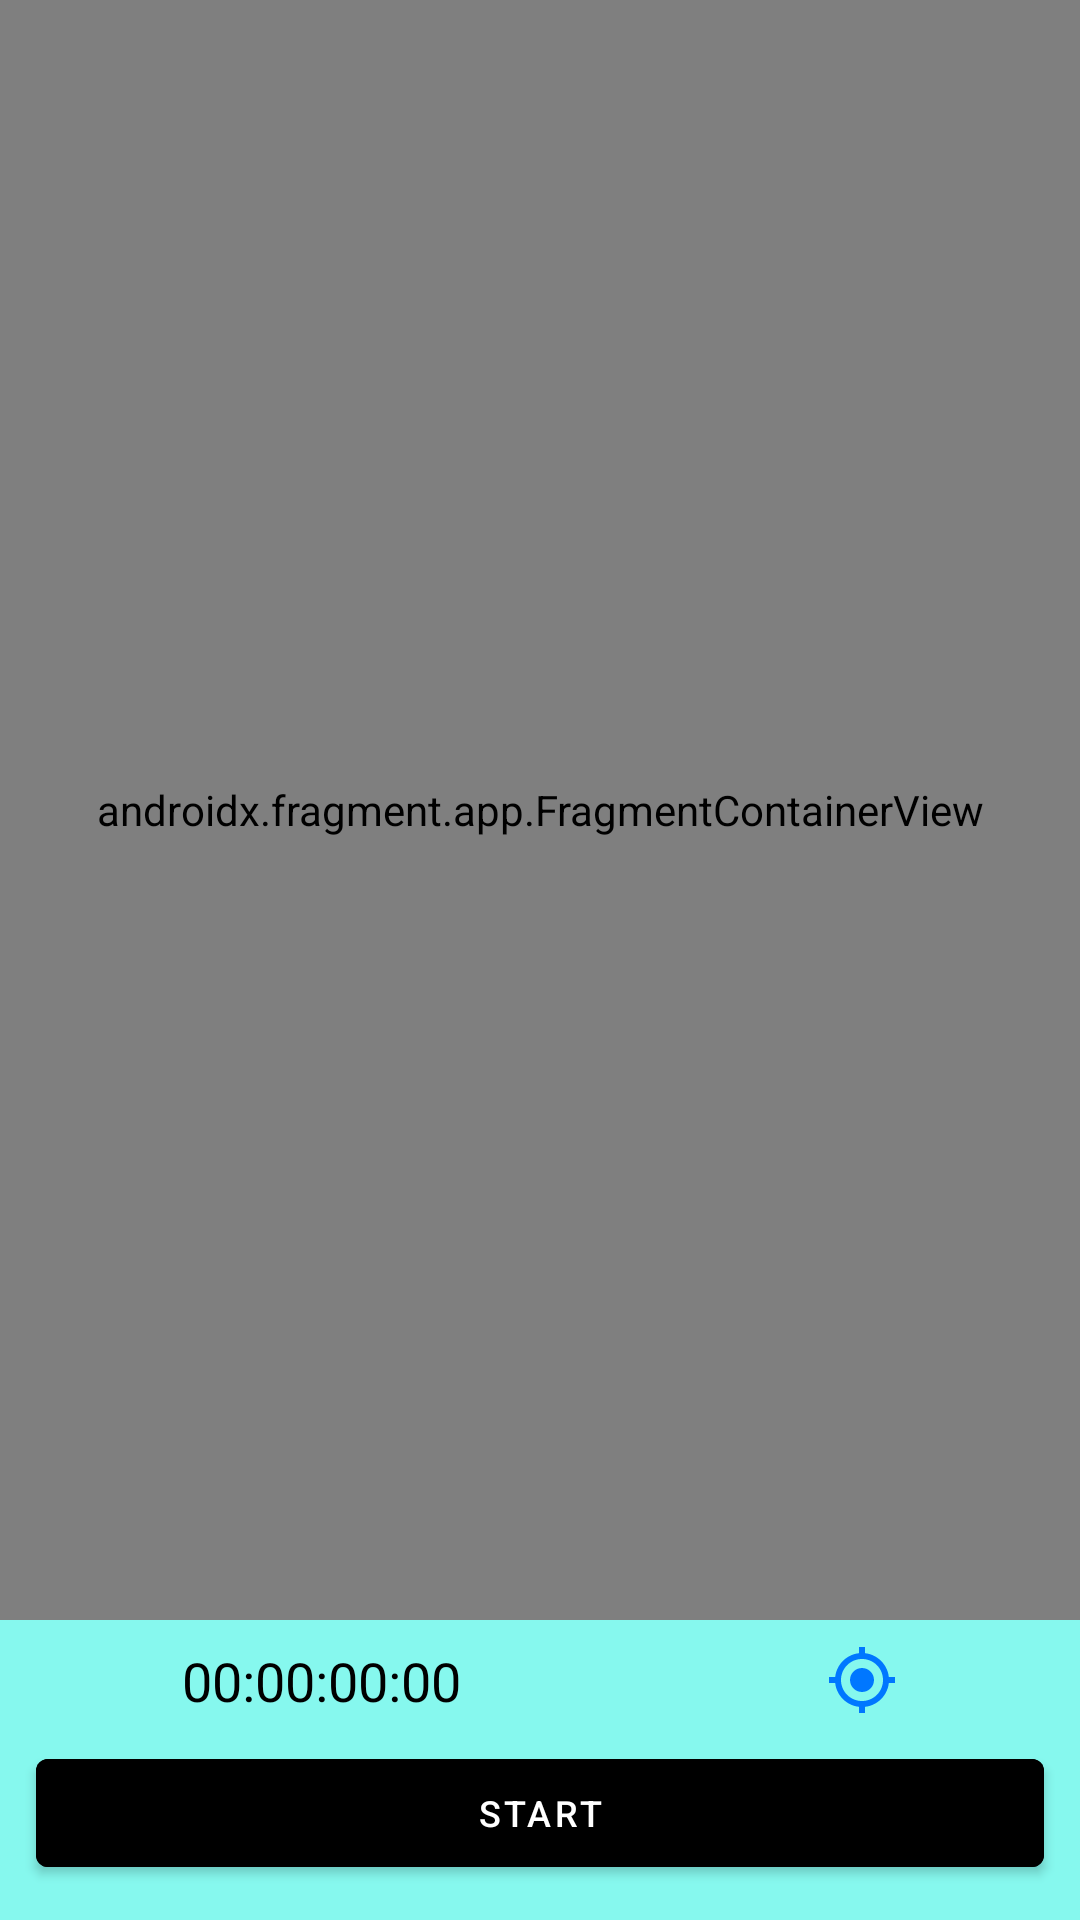

Where to tap for icons on this 1080px x 1920px app screen, as (x,y):
location: (862,1680)
